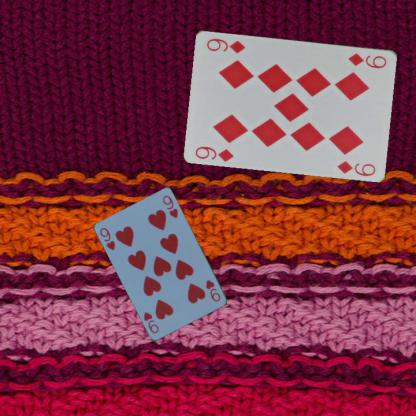9d: (193, 143, 235, 163), (346, 50, 388, 69)
9h: (97, 225, 117, 252), (203, 277, 222, 303)
